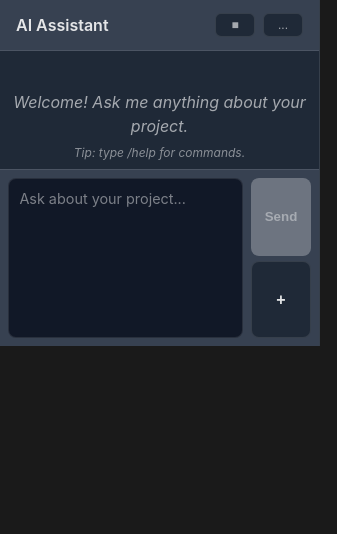
Scenario: ChatPanel - Autopilot Features › Autopilot messaging and controls › surfaces failures when autopilot control requests fail
In the text box with test id "chat-input": (126, 258) [8,178,243,338], type "Trigger autopilot session"
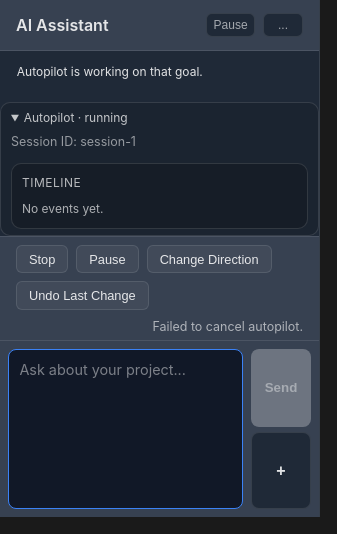
Now the text with test id "autopilot-status-note" reads "Failed to cancel autopilot.", box [152,319,303,334]
